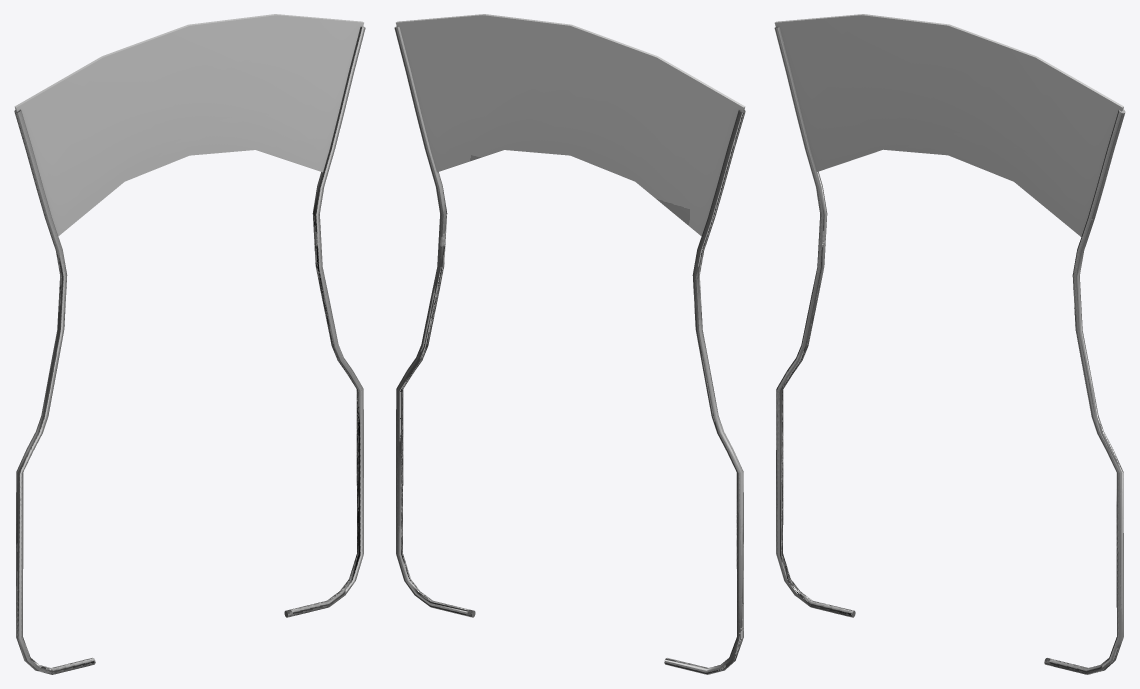
Rendered from Sign.dae.
The picture shows the model from 3 angles, left to right: view 1: azimuth 30°, elevation 25°; view 2: azimuth 150°, elevation 25°; view 3: azimuth 330°, elevation 25°; orthographic projection.
Visible parts, largest first — view 1: Cylinder_001; view 2: Cylinder_001; view 3: Cylinder_001.
Part boxes in pixels (<box>): Cylinder_001: <box>14,14,365,674</box>; Cylinder_001: <box>394,14,745,674</box>; Cylinder_001: <box>774,14,1125,674</box>.
Bounding box in the file's own units: 0.8655 × 0.0153 × 1.46.
2 materials, 2 textured.
